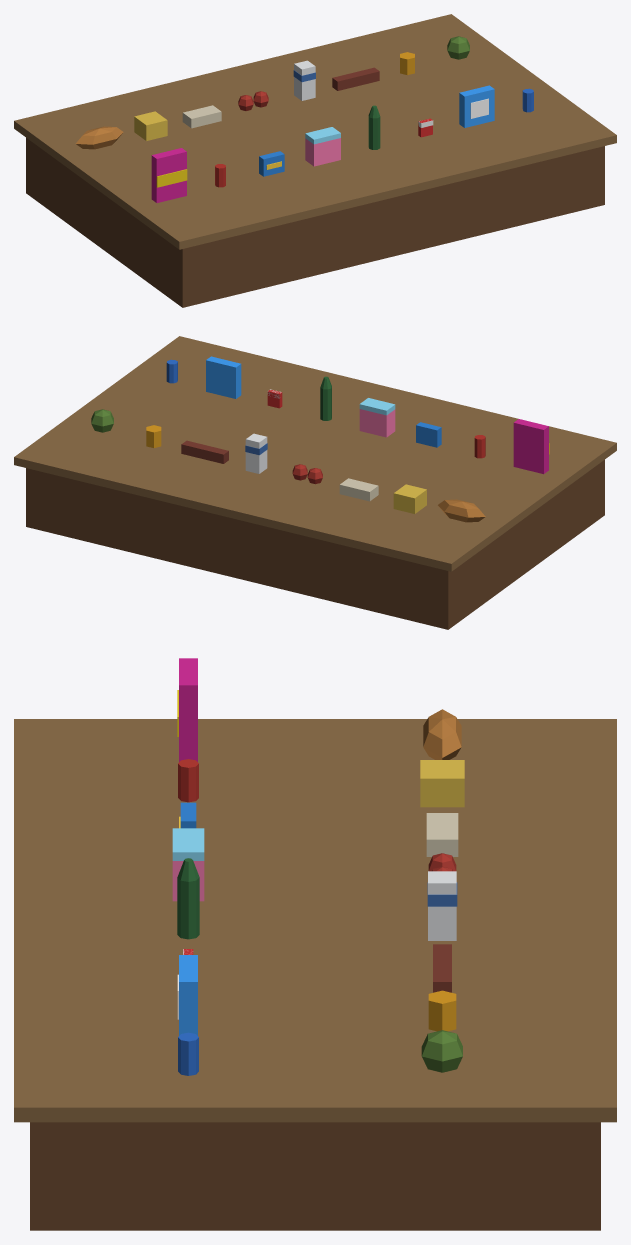
File: prodotti.obj
3 views of the same model, one above another, from view 1: azimuth 30°, elevation 25°; view 2: azimuth 150°, elevation 25°; view 3: azimuth 270°, elevation 25° (orthographic). The views are drawn at different scales.
Visible parts, largest first — view 1: parte_01, parte_00, parte_11, parte_21, parte_16, parte_03, parte_02, parte_08, parte_06, parte_04, parte_18, parte_14 (+3 smaller); view 2: parte_01, parte_00, parte_11, parte_21, parte_16, parte_03, parte_02, parte_06, parte_08, parte_04, parte_14, parte_18 (+3 smaller); view 3: parte_01, parte_00, parte_03, parte_11, parte_06, parte_18, parte_02, parte_21, parte_10, parte_04, parte_09, parte_17 (+3 smaller).
Part boxes in pixels (bbox=[...]): parte_01: bbox=[14, 14, 616, 249]; parte_00: bbox=[26, 138, 604, 307]; parte_11: bbox=[151, 148, 186, 202]; parte_21: bbox=[459, 85, 494, 127]; parte_16: bbox=[305, 138, 340, 166]; parte_03: bbox=[134, 111, 167, 140]; parte_02: bbox=[75, 126, 123, 149]; parte_08: bbox=[332, 67, 379, 90]; parte_06: bbox=[294, 60, 315, 100]; parte_04: bbox=[182, 105, 221, 128]; parte_18: bbox=[368, 105, 380, 149]; parte_14: bbox=[259, 151, 284, 176]; parte_01: bbox=[14, 336, 616, 571]; parte_00: bbox=[26, 460, 604, 629]; parte_11: bbox=[513, 419, 548, 474]; parte_21: bbox=[206, 356, 241, 398]; parte_16: bbox=[359, 409, 395, 437]; parte_03: bbox=[393, 484, 426, 513]; parte_02: bbox=[438, 499, 485, 522]; parte_06: bbox=[245, 433, 267, 473]; parte_08: bbox=[181, 440, 228, 463]; parte_04: bbox=[339, 478, 378, 501]; parte_14: bbox=[416, 422, 441, 447]; parte_18: bbox=[320, 376, 331, 420]; parte_01: bbox=[14, 719, 616, 1122]; parte_00: bbox=[30, 1122, 600, 1230]; parte_03: bbox=[420, 760, 464, 807]; parte_11: bbox=[179, 658, 197, 761]; parte_06: bbox=[428, 871, 456, 940]; parte_18: bbox=[177, 858, 199, 939]; parte_02: bbox=[423, 709, 461, 759]; parte_21: bbox=[179, 955, 197, 1035]; parte_10: bbox=[421, 1030, 462, 1072]; parte_04: bbox=[426, 813, 458, 856]; parte_09: bbox=[428, 990, 456, 1031]; parte_17: bbox=[172, 828, 204, 860].
Size of the model in its own units: 2.9 by 0.73 by 1.9.
